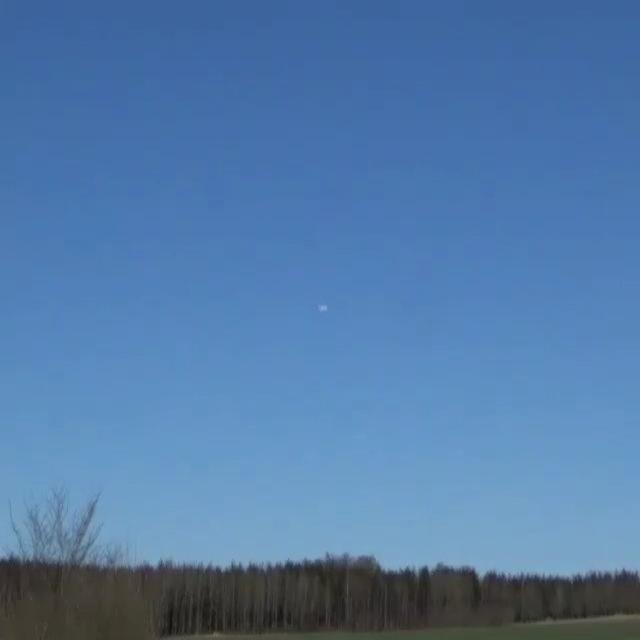drone: (318, 304, 328, 311)
